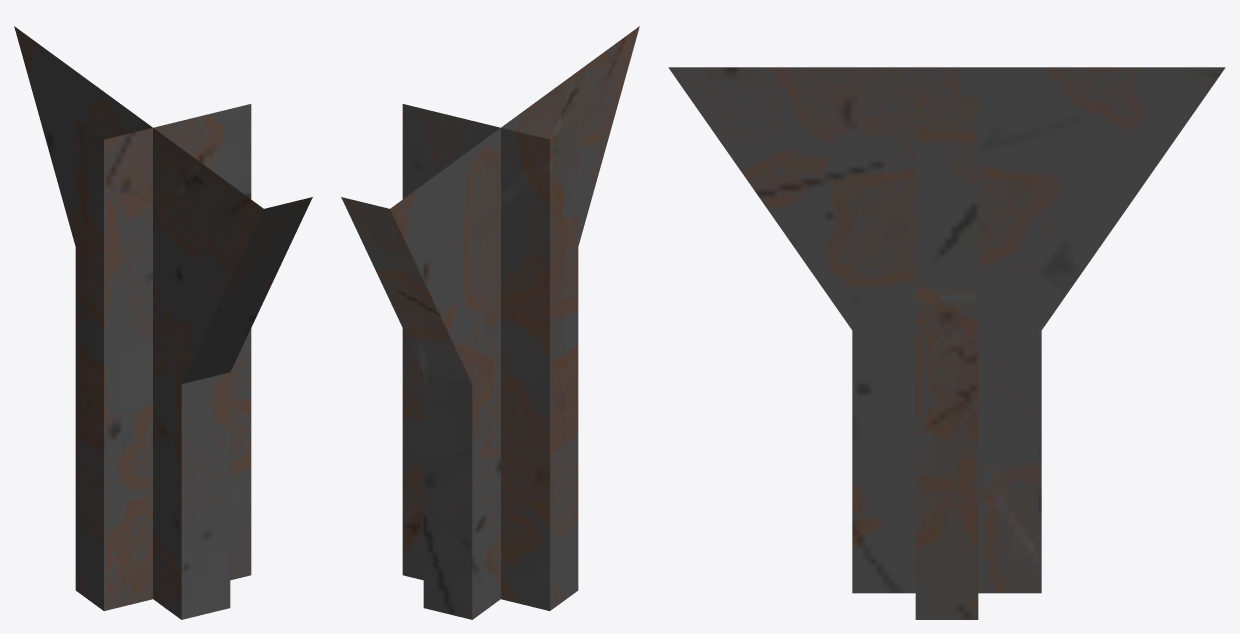
The model's file is conveyorsupport_top.glb.
3 views of the same model, side by side, from view 1: azimuth 30°, elevation 25°; view 2: azimuth 150°, elevation 25°; view 3: azimuth 270°, elevation 25° (orthographic). The views are drawn at different scales.
Visible parts, largest first — view 1: conveyorsupport_top; view 2: conveyorsupport_top; view 3: conveyorsupport_top.
Boxes of the visible parts, x1,y1,x2,y2 form: conveyorsupport_top: (14,26,312,619); conveyorsupport_top: (341,26,639,619); conveyorsupport_top: (668,67,1225,619).
Bounding box in the file's own units: 0.1545 × 0.4727 × 0.4542.
Materials: 1 (1 with a texture image).
